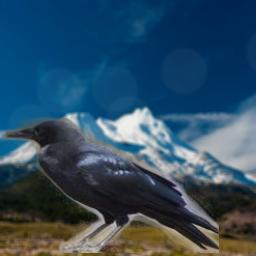Crow: (2, 117, 219, 253)
